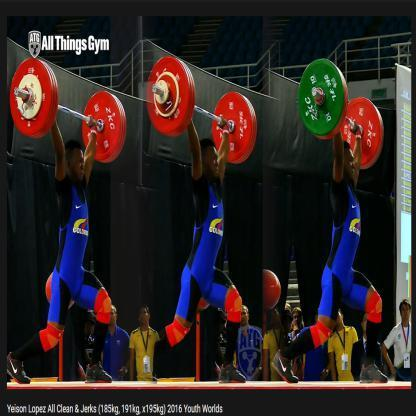barbell: (10, 58, 127, 164), (145, 56, 257, 162), (296, 55, 387, 170)
